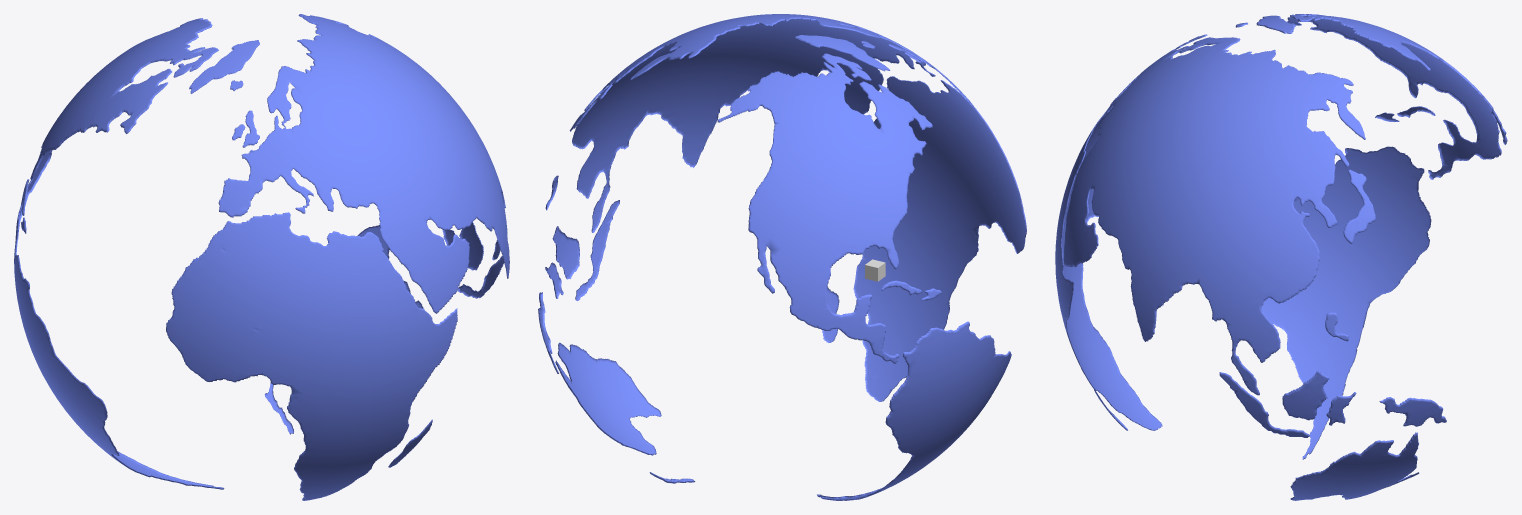
The model's file is globe.gltf.
3 views of the same model, side by side, from view 1: azimuth 30°, elevation 25°; view 2: azimuth 150°, elevation 25°; view 3: azimuth 270°, elevation 25° (orthographic).
Parts seen in each view (by area): view 1: globe; view 2: globe; view 3: globe.
Part boxes in pixels (bbox=[...]): globe: bbox=[14, 14, 509, 500]; globe: bbox=[538, 14, 1026, 500]; globe: bbox=[1055, 14, 1507, 500].
Bounding box in the file's own units: 5.91 × 5.88 × 5.47.
